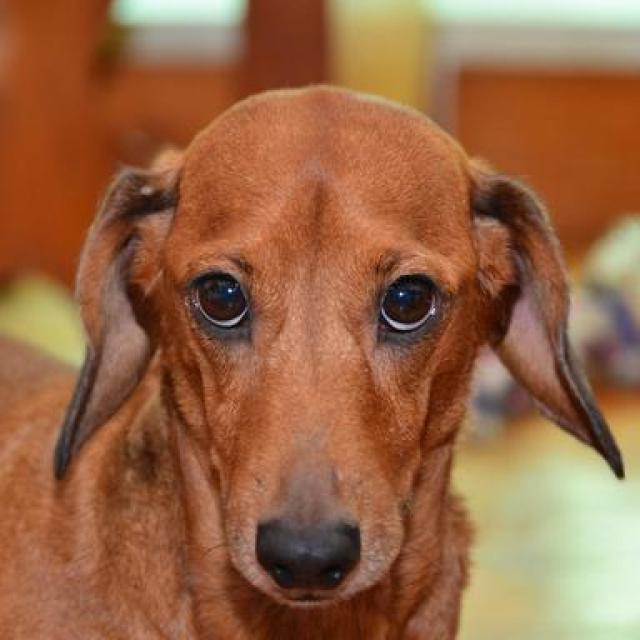sad: (42, 81, 608, 638)
